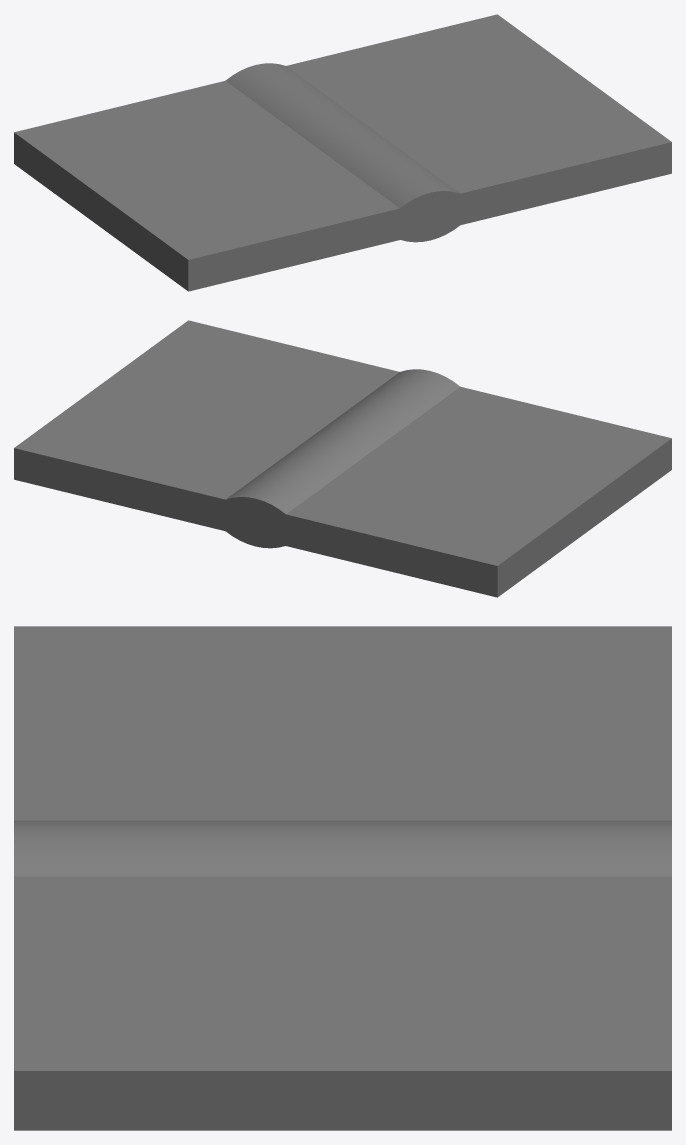
3 renders of one model, top to bottom at view 1: azimuth 30°, elevation 25°; view 2: azimuth 150°, elevation 25°; view 3: azimuth 270°, elevation 25°, orthographic. The views are drawn at different scales.
Visible parts, largest first — view 1: mesh_id4, mesh_id5; view 2: mesh_id4, mesh_id5; view 3: mesh_id4, mesh_id5.
Part boxes in pixels (x1=…): mesh_id4: x1=14, y1=14, x2=671, y2=291; mesh_id5: x1=225, y1=63, x2=460, y2=242; mesh_id4: x1=14, y1=320, x2=671, y2=597; mesh_id5: x1=225, y1=369, x2=460, y2=548; mesh_id4: x1=14, y1=626, x2=671, y2=1130; mesh_id5: x1=14, y1=820, x2=671, y2=876.
Bounding box in the file's own units: 0.512 × 0.0485 × 0.32.
2 materials, 2 textured.
